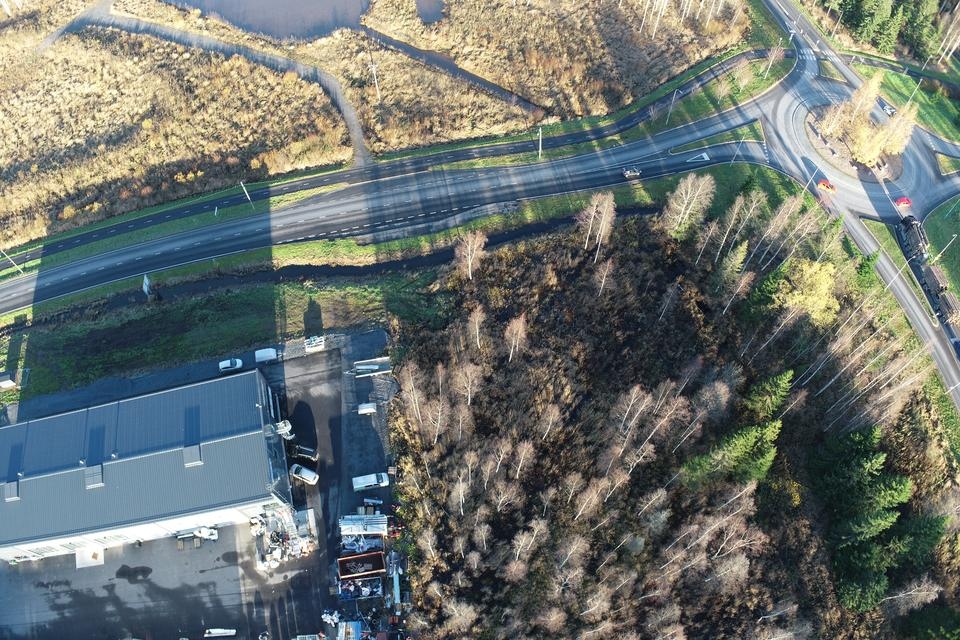intersection: (340, 129, 406, 258), (773, 37, 867, 70)
roundabout: (758, 73, 960, 244)
